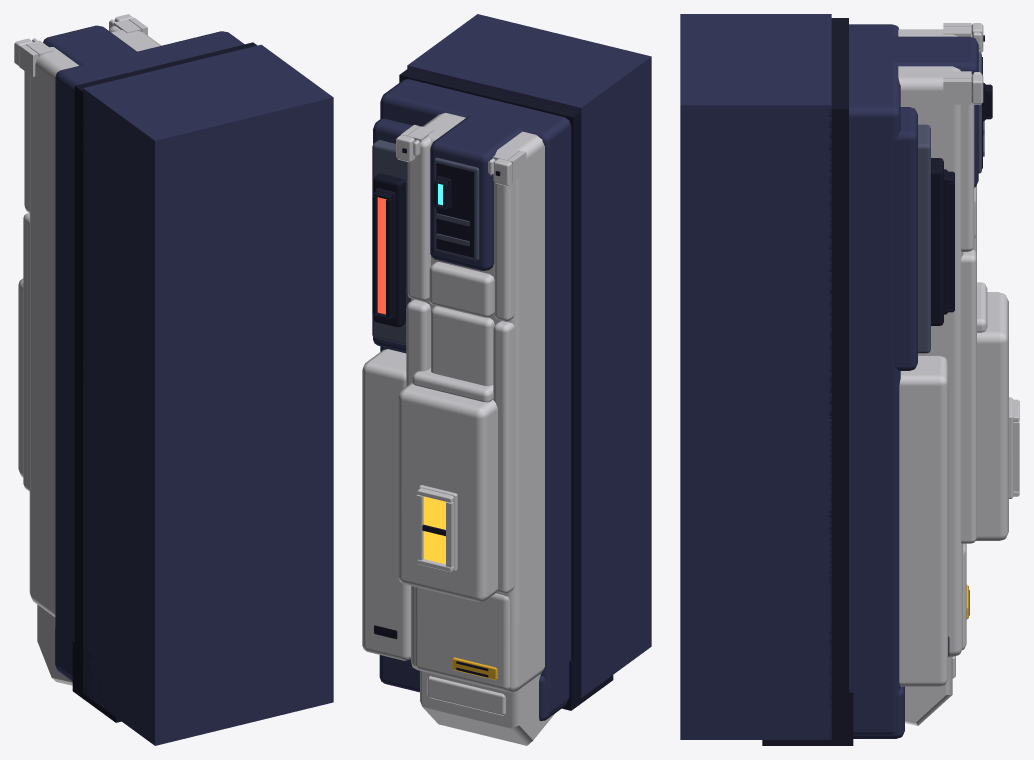
The model's file is hull.bay.pillar.bumper.none.louvre.w1.000.s0.k-2.glb.
3 renders of one model, left to right at view 1: azimuth 30°, elevation 25°; view 2: azimuth 150°, elevation 25°; view 3: azimuth 270°, elevation 25°, orthographic. The views are drawn at different scales.
Parts seen in each view (by area): view 1: hull.bay.pillar.bumper.none.louvre.w1.000.s0.k-2; view 2: hull.bay.pillar.bumper.none.louvre.w1.000.s0.k-2; view 3: hull.bay.pillar.bumper.none.louvre.w1.000.s0.k-2.
Part boxes in pixels (x1=…): hull.bay.pillar.bumper.none.louvre.w1.000.s0.k-2: x1=14, y1=14, x2=333, y2=745; hull.bay.pillar.bumper.none.louvre.w1.000.s0.k-2: x1=362, y1=14, x2=651, y2=745; hull.bay.pillar.bumper.none.louvre.w1.000.s0.k-2: x1=680, y1=14, x2=1019, y2=745.
Bounding box in the file's own units: 1 × 3.36 × 1.57.
